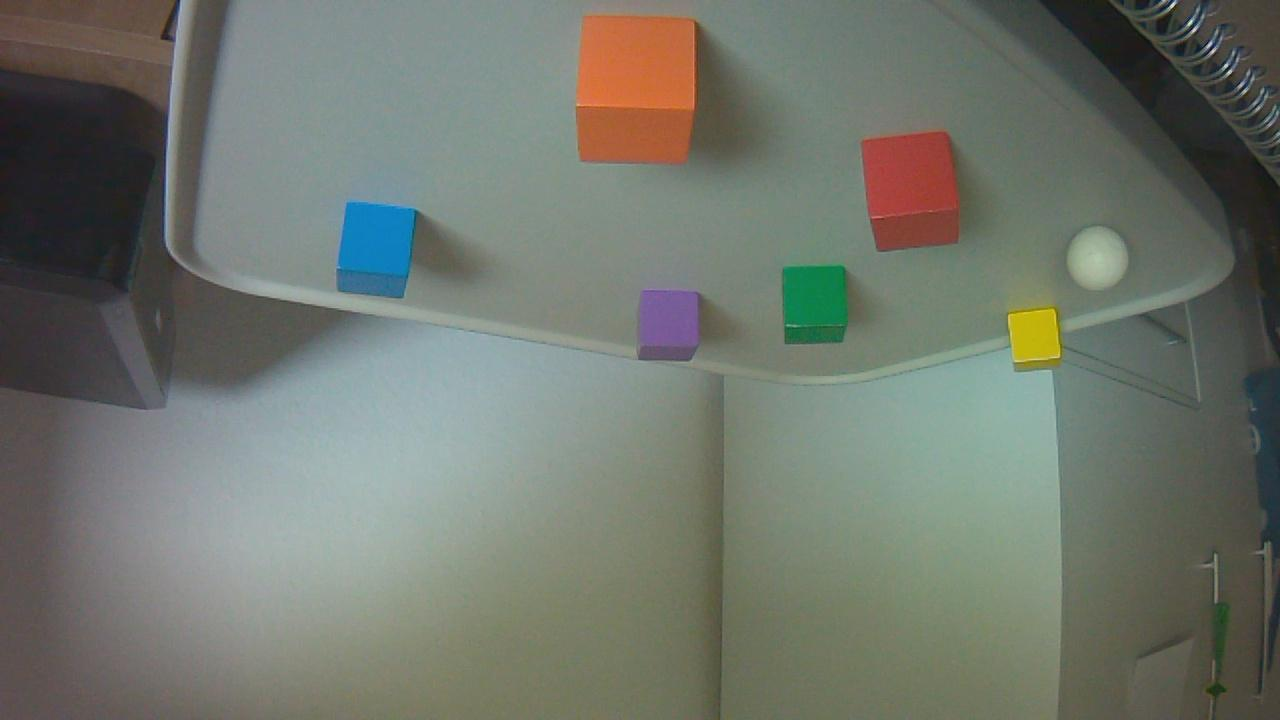ball: (1065, 224, 1130, 292)
cube_blue: (335, 200, 417, 299)
cube_green: (781, 263, 846, 343)
cube_orange: (576, 17, 695, 164)
cube_purple: (637, 287, 698, 359)
cube_red: (861, 131, 961, 251)
cube_yellow: (1005, 309, 1064, 373)
